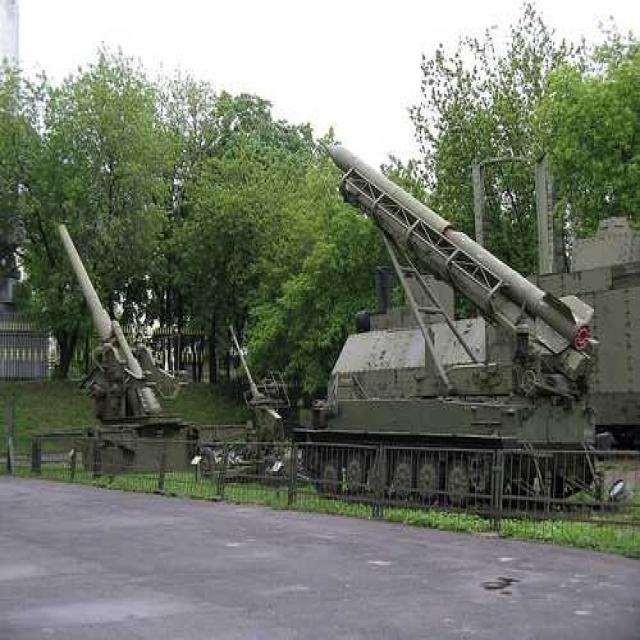missile: (327, 134, 596, 374), (56, 217, 161, 415)
